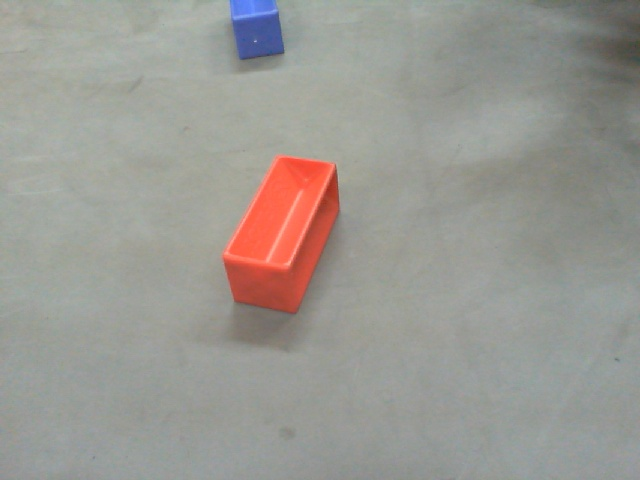BlueSample: (228, 1, 288, 62)
RedSample: (218, 153, 345, 325)
